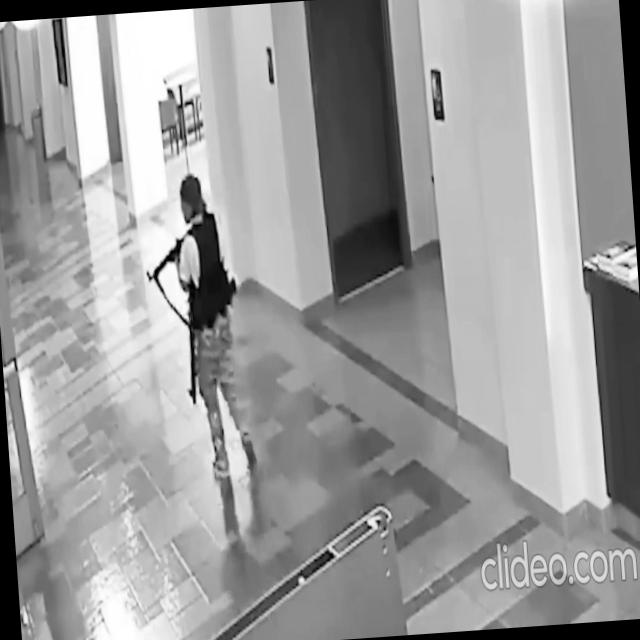gun: (178, 277, 204, 408), (142, 228, 192, 285)
person with a gun: (138, 167, 260, 488)
